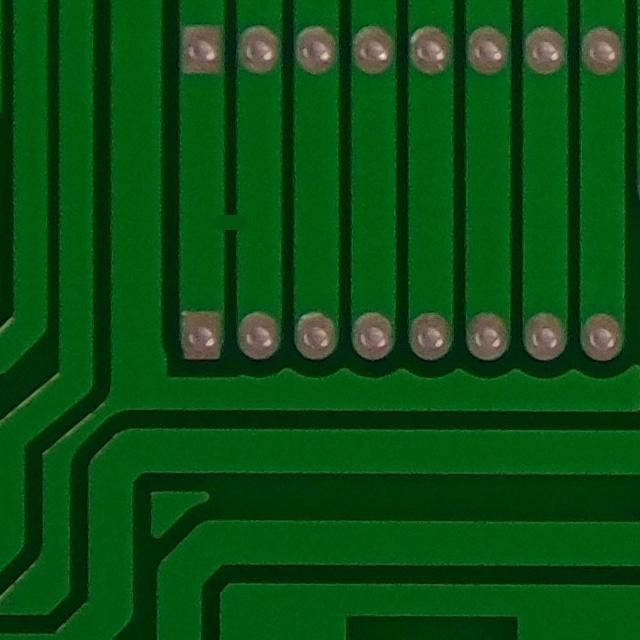short: (190, 182, 281, 277)
